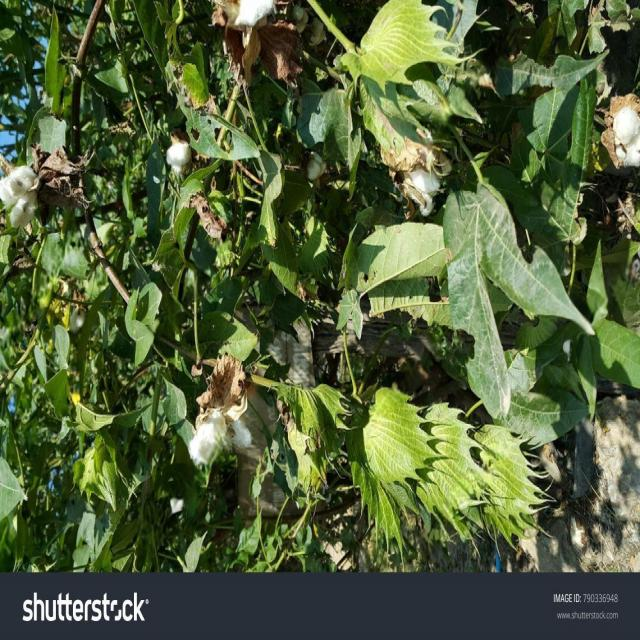Early_blight: (185, 386, 258, 470), (1, 153, 46, 232), (398, 147, 442, 214), (602, 89, 638, 168), (164, 122, 195, 180), (190, 138, 191, 140)
